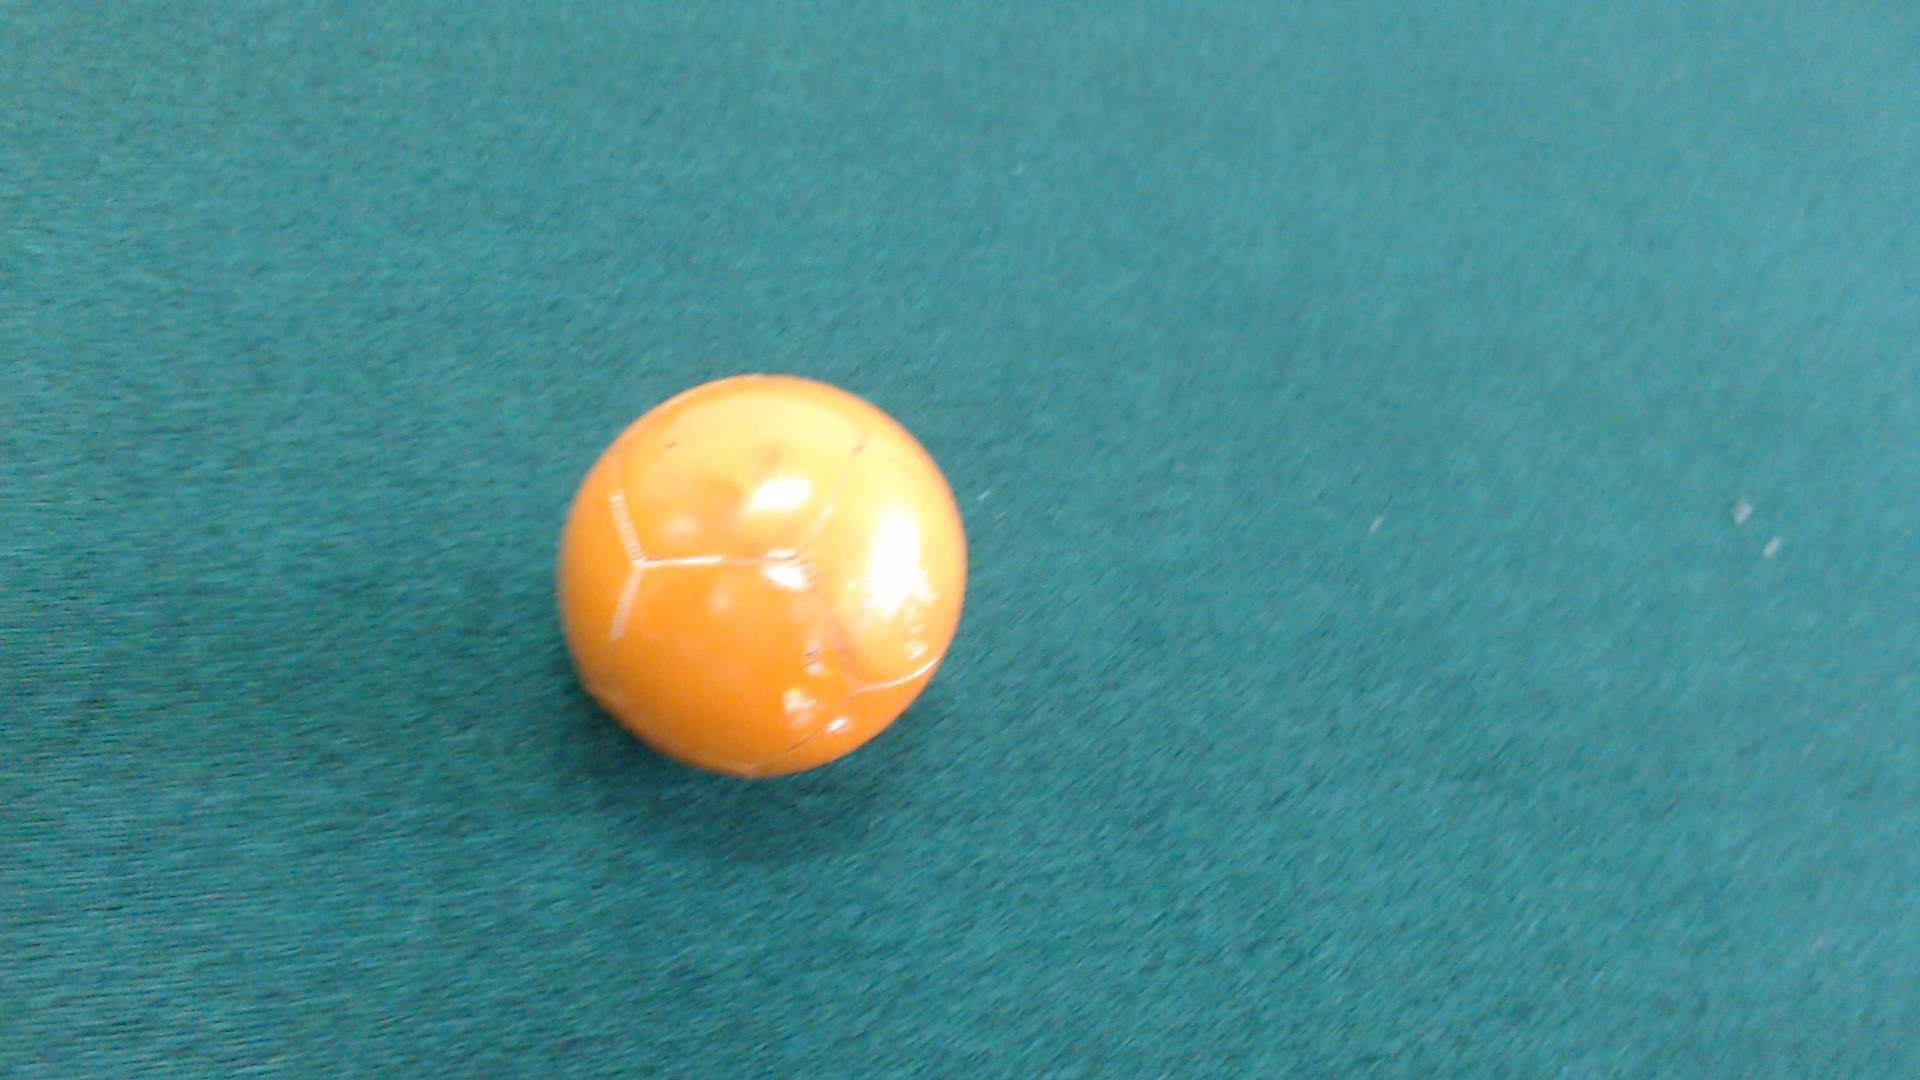bola: (534, 330, 997, 814)
